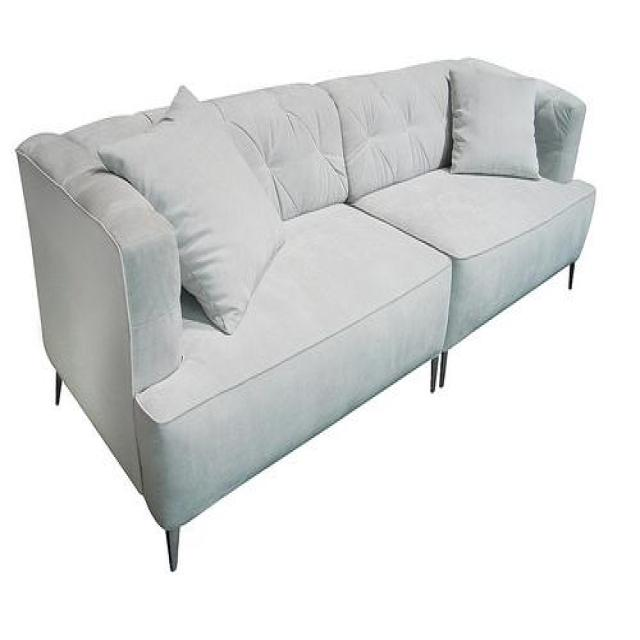sofa: (13, 53, 596, 572)
